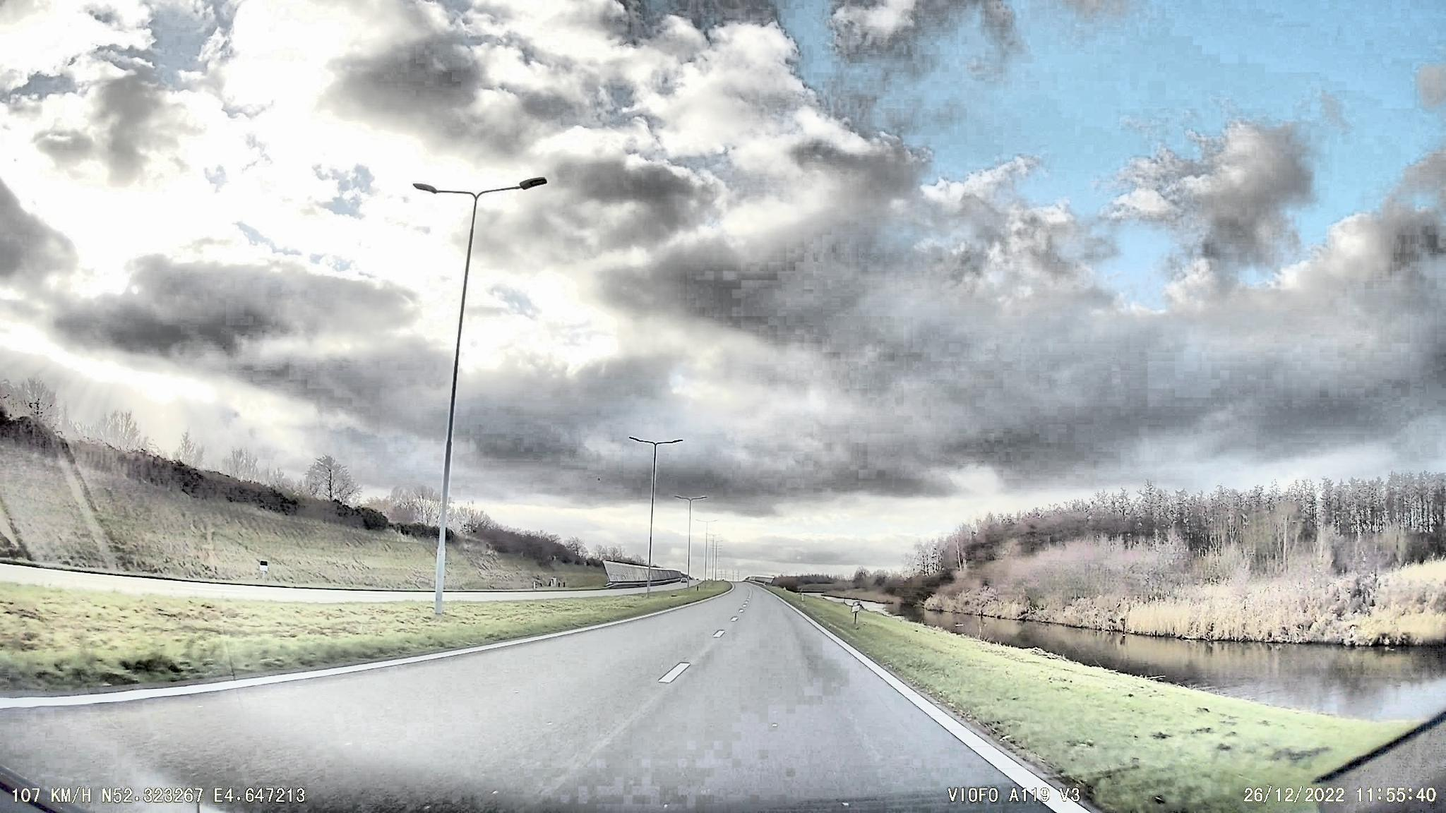Roads: (0, 585, 1096, 813)
